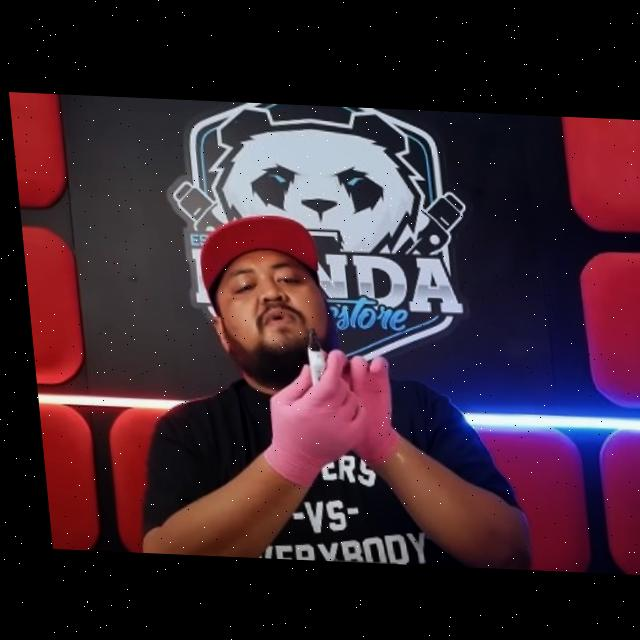vape: (299, 325, 323, 383)
